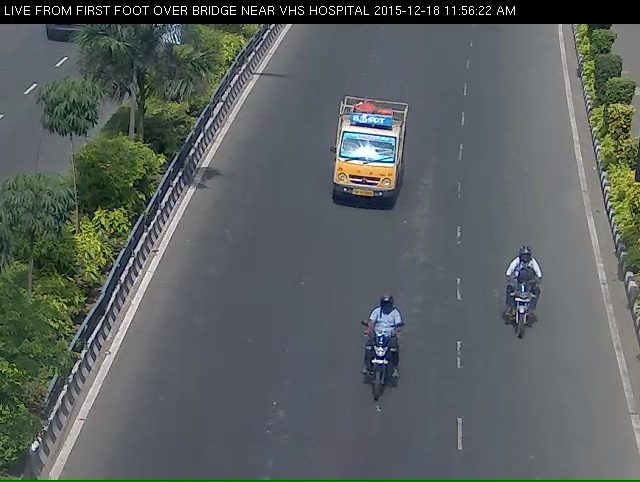Car: (327, 99, 409, 232)
Person: (340, 317, 415, 441), (496, 258, 548, 369)
